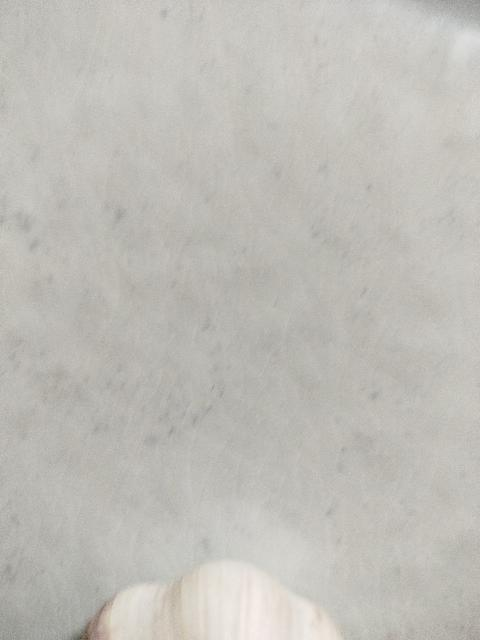garlic: (82, 559, 344, 639)
